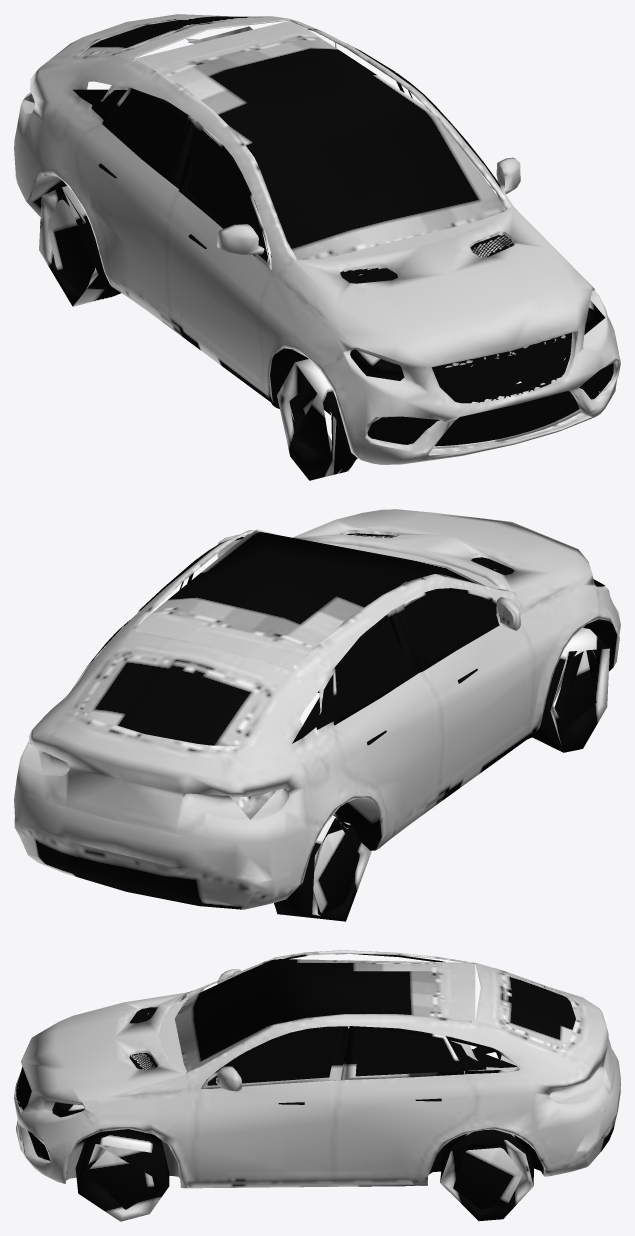
Rendered from crossover-mid.glb.
3 renders of one model, top to bottom at view 1: azimuth 30°, elevation 25°; view 2: azimuth 150°, elevation 25°; view 3: azimuth 270°, elevation 25°, orthographic. The views are drawn at different scales.
Visible parts, largest first — view 1: Object_2, Object_7, Object_4, Object_6, Object_5, Object_3; view 2: Object_2, Object_7, Object_4, Object_6, Object_3, Object_5; view 3: Object_2, Object_7, Object_4, Object_6, Object_5.
Boxes of the visible parts, box(x1,y1,x2,y2) form: Object_2: box(14, 14, 620, 464); Object_7: box(130, 21, 574, 445); Object_4: box(48, 29, 582, 460); Object_6: box(39, 186, 613, 480); Object_5: box(73, 89, 605, 403); Object_3: box(23, 26, 607, 460); Object_2: box(14, 509, 620, 909); Object_7: box(134, 531, 514, 683); Object_4: box(72, 534, 520, 914); Object_6: box(274, 628, 609, 921); Object_3: box(30, 650, 596, 819); Object_5: box(292, 579, 604, 745); Object_2: box(14, 950, 620, 1188); Object_7: box(129, 959, 475, 1072); Object_4: box(18, 953, 522, 1209); Object_6: box(28, 1047, 533, 1221); Object_5: box(16, 1040, 516, 1117).
Size of the model in its own units: 1.98 by 1.61 by 4.6.
Materials: 1 (1 with a texture image).
